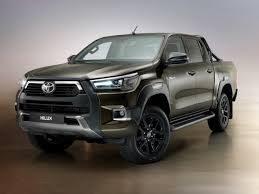Toyota: (17, 33, 234, 148)
